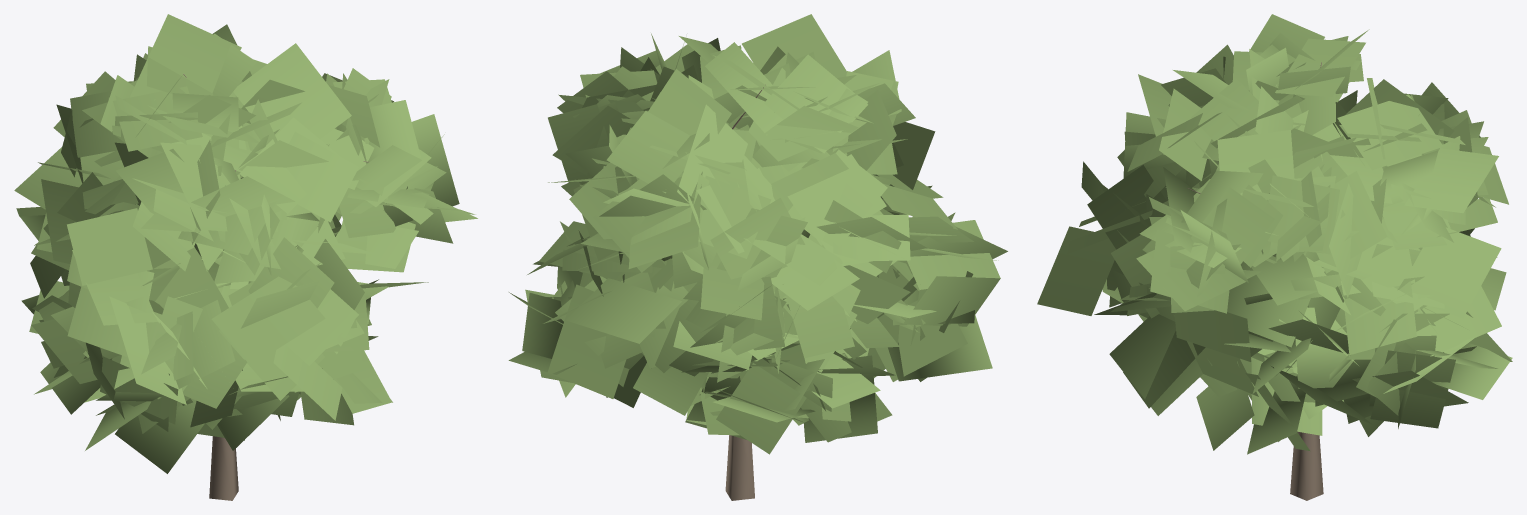
Rendered from Broadleaf_2_lod2.glb.
3 views of the same model, side by side, from view 1: azimuth 30°, elevation 25°; view 2: azimuth 150°, elevation 25°; view 3: azimuth 270°, elevation 25° (orthographic).
Visible parts, largest first — view 1: Broadleaf_2_lod2; view 2: Broadleaf_2_lod2; view 3: Broadleaf_2_lod2.
Boxes of the visible parts, box(x1,y1,x2,y2) form: Broadleaf_2_lod2: box(14, 14, 477, 500); Broadleaf_2_lod2: box(508, 14, 1007, 500); Broadleaf_2_lod2: box(1037, 14, 1512, 500).
Size of the model in its own units: 11.63 by 12.91 by 12.26.
